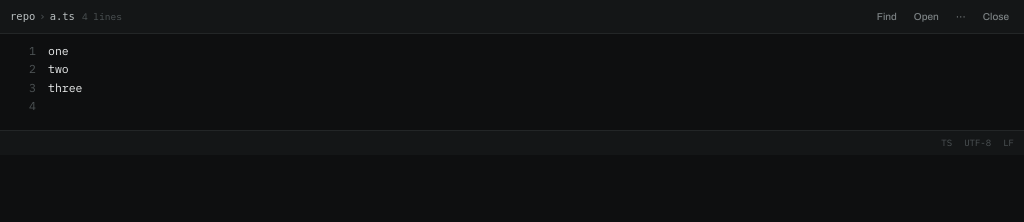
FileViewer — a real code surface (§3.1) › says so when the query matches nothing
The width and height of the screenshot is (1024, 222).
Expected: the text "one" is shown, x1=48 y1=43 x2=69 y2=58
Click the button "Find". click: coordinates (887, 16)
box: x1=872 y1=8 x2=902 y2=25
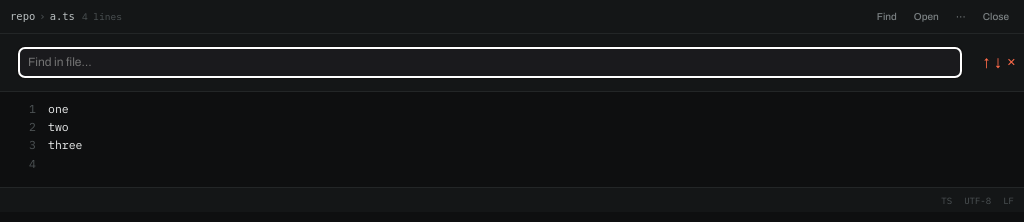
Type "nothing here" into the field with placeholder "Find in file…". click: coordinates (490, 62)
box: x1=18 y1=47 x2=962 y2=78
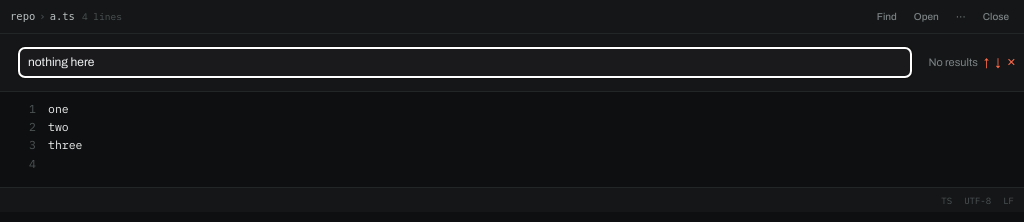
Result: the text "No results" is shown at x1=928 y1=54 x2=978 y2=71
